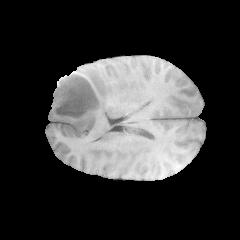glioma: (48, 69, 110, 137)
